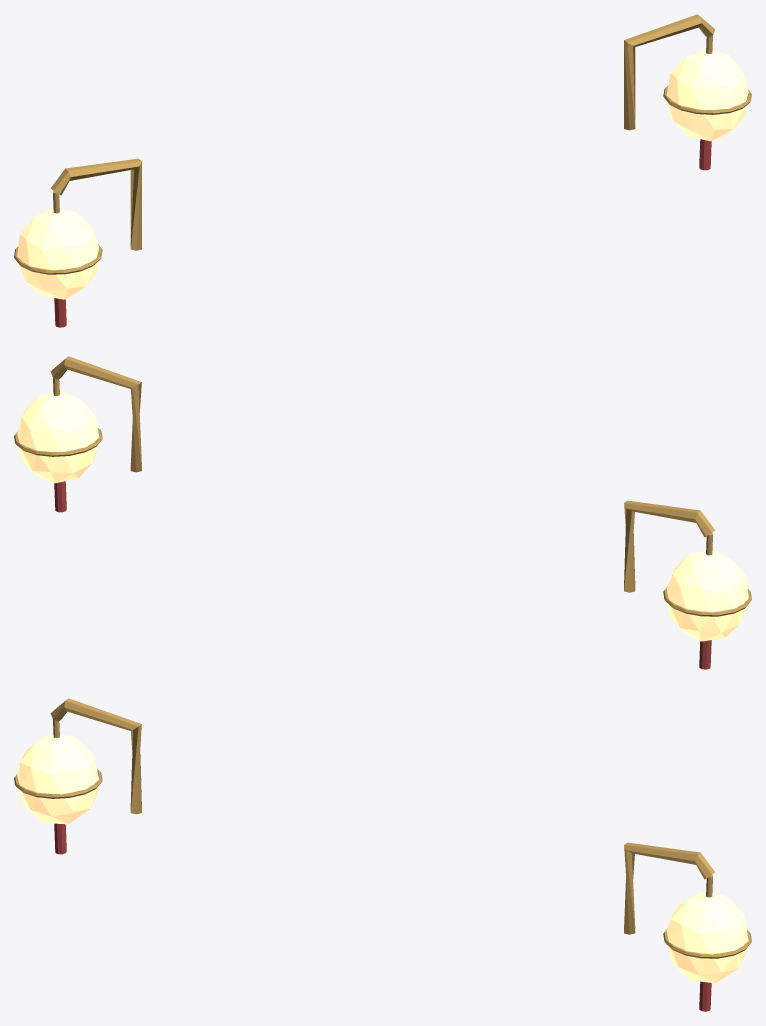
File: paper_lamps.glb
The picture shows the model from 3 angles, top to bottom: view 1: azimuth 30°, elevation 25°; view 2: azimuth 150°, elevation 25°; view 3: azimuth 330°, elevation 25°; orthographic projection.
Visible parts, largest first — view 1: Pleated paper globe.001, Pleated paper globe, Lantern crook.003, Lantern crook.002, Paper hoop.001, Paper hoop.004; view 2: Pleated paper globe.001, Pleated paper globe, Lantern crook.002, Lantern crook.003, Paper hoop.001, Paper hoop.004; view 3: Pleated paper globe.001, Pleated paper globe, Lantern crook.002, Lantern crook.003, Paper hoop.004, Paper hoop.001.
Boxes of the visible parts, x1,y1,x2,y2 form: Pleated paper globe.001: [666, 49, 748, 141]; Pleated paper globe: [17, 208, 99, 299]; Lantern crook.003: [624, 14, 715, 130]; Lantern crook.002: [50, 158, 141, 250]; Paper hoop.001: [14, 244, 102, 274]; Paper hoop.004: [663, 86, 751, 114]; Pleated paper globe.001: [17, 391, 99, 483]; Pleated paper globe: [666, 550, 748, 641]; Lantern crook.002: [624, 500, 715, 592]; Lantern crook.003: [50, 356, 141, 472]; Paper hoop.001: [663, 586, 751, 616]; Paper hoop.004: [14, 428, 102, 456]; Pleated paper globe.001: [666, 892, 748, 983]; Pleated paper globe: [17, 734, 99, 824]; Lantern crook.002: [50, 698, 141, 814]; Lantern crook.003: [624, 842, 715, 934]; Paper hoop.004: [663, 928, 751, 958]; Paper hoop.001: [14, 769, 102, 798].
Bounding box in the file's own units: 6.33 × 1.28 × 0.676.
